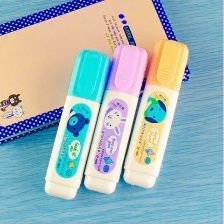correction_fluid: (77, 39, 150, 195), (118, 36, 190, 191), (41, 44, 112, 201)
